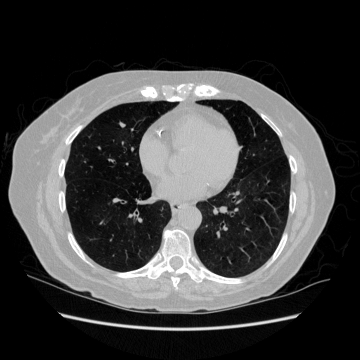nodule: (119, 122, 125, 128)
